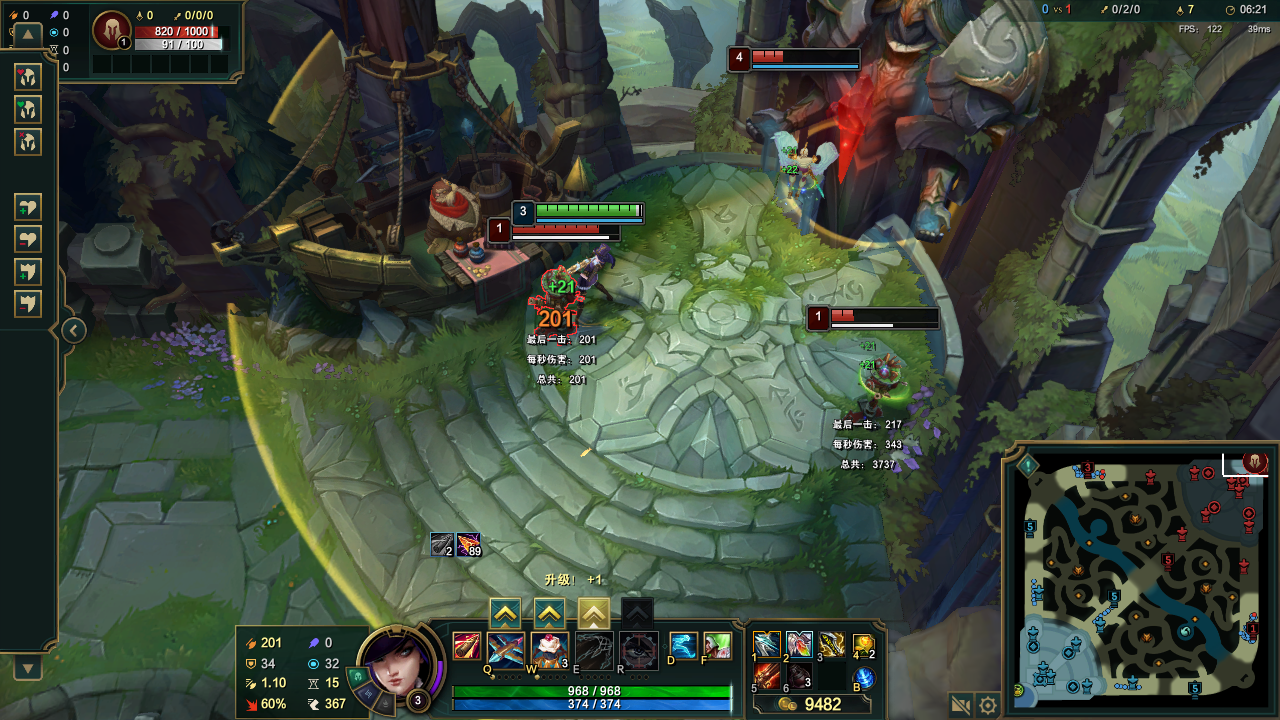DFYX: (754, 46, 865, 64), (830, 311, 942, 322), (514, 227, 620, 233)
